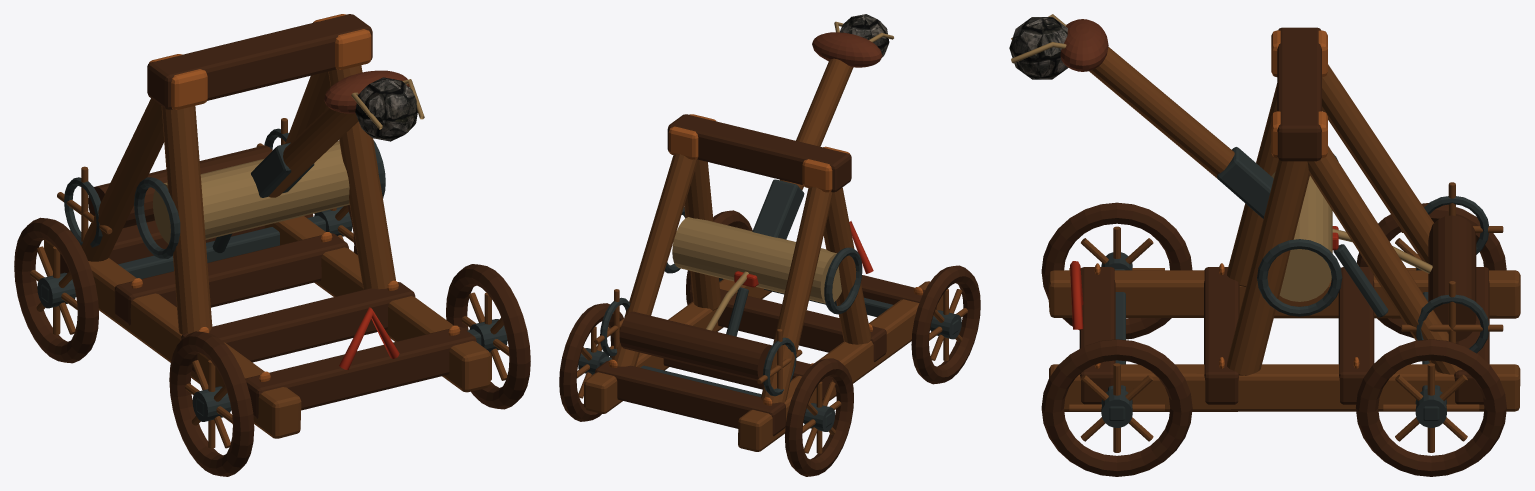
Rendered from catapult_articulated_LOD0.glb.
The picture shows the model from 3 angles, left to right: view 1: azimuth 30°, elevation 25°; view 2: azimuth 150°, elevation 25°; view 3: azimuth 270°, elevation 25°; orthographic projection. The views are drawn at different scales.
Visible parts, largest first — view 1: CatapultTopCrossbar, CatapultWheel_L_F_Pivot, CatapultWheel_L_R_Pivot, CatapultTorsionBundle, CatapultCrossBeam, CatapultCrossBeam.001, CatapultAFrameLeg, CatapultCrossBeam.002, CatapultLongRail, CatapultWheel_R_F_Pivot, CatapultLongRail.001, CatapultAFrameLeg.001 (+15 smaller); view 2: CatapultTorsionBundle, CatapultTopCrossbar, CatapultWheel_L_R_Pivot, CatapultCrossBeam.003, CatapultWinchDrum, CatapultWheel_L_F_Pivot, CatapultAFrameBackstay, CatapultLongRail, CatapultAFrameBackstay.001, CatapultCrossBeam.001, CatapultWheel_R_R_Pivot, CatapultAFrameLeg (+18 smaller); view 3: CatapultWheel_R_R_Pivot, CatapultWheel_R_F_Pivot, CatapultLongRail.001, CatapultLongRail, CatapultAFrameLeg.001, CatapultAFrameBackstay.001, CatapultWheel_L_F_Pivot, CatapultAFrameBackstay, CatapultTopCrossbar, CatapultThrowingArm, CatapultWinchDrum, CatapultCrossBeam.001 (+17 smaller).
Part boxes in pixels (<box>): CatapultTopCrossbar: <box>147,14,372,109</box>; CatapultWheel_L_F_Pivot: <box>169,331,254,476</box>; CatapultWheel_L_R_Pivot: <box>14,217,98,363</box>; CatapultTorsionBundle: <box>152,140,349,244</box>; CatapultCrossBeam: <box>245,326,476,418</box>; CatapultCrossBeam.001: <box>181,282,415,373</box>; CatapultAFrameLeg: <box>161,106,212,334</box>; CatapultCrossBeam.002: <box>114,233,348,325</box>; CatapultLongRail: <box>44,230,301,438</box>; CatapultWheel_R_F_Pivot: <box>446,264,530,409</box>; CatapultLongRail.001: <box>264,216,490,392</box>; CatapultAFrameLeg.001: <box>328,65,395,289</box>; CatapultTorsionBundle: <box>672,217,841,303</box>; CatapultTopCrossbar: <box>667,114,851,192</box>; CatapultWheel_L_R_Pivot: <box>785,358,853,476</box>; CatapultCrossBeam.003: <box>595,360,785,436</box>; CatapultWinchDrum: <box>619,311,771,380</box>; CatapultWheel_L_F_Pivot: <box>911,265,980,384</box>; CatapultAFrameBackstay: <box>761,187,833,403</box>; CatapultLongRail: <box>738,281,943,451</box>; CatapultAFrameBackstay.001: <box>612,154,697,366</box>; CatapultCrossBeam.001: <box>718,289,886,361</box>; CatapultWheel_R_R_Pivot: <box>559,303,623,421</box>; CatapultAFrameLeg: <box>823,187,870,344</box>; CatapultWheel_R_R_Pivot: <box>1356,339,1506,476</box>; CatapultWheel_R_F_Pivot: <box>1041,339,1192,476</box>; CatapultLongRail.001: <box>1049,364,1520,411</box>; CatapultLongRail: <box>1048,270,1520,318</box>; CatapultAFrameLeg.001: <box>1227,160,1309,375</box>; CatapultAFrameBackstay.001: <box>1307,146,1462,374</box>; CatapultWheel_L_F_Pivot: <box>1041,202,1192,339</box>; CatapultAFrameBackstay: <box>1322,64,1433,262</box>; CatapultTopCrossbar: <box>1277,27,1321,161</box>; CatapultThrowingArm: <box>1089,47,1234,178</box>; CatapultWinchDrum: <box>1428,215,1476,341</box>; CatapultCrossBeam.001: <box>1204,267,1239,404</box>.
Bounding box in the file's own units: 2.35 × 2.87 × 3.42.
8 materials, 1 textured.
